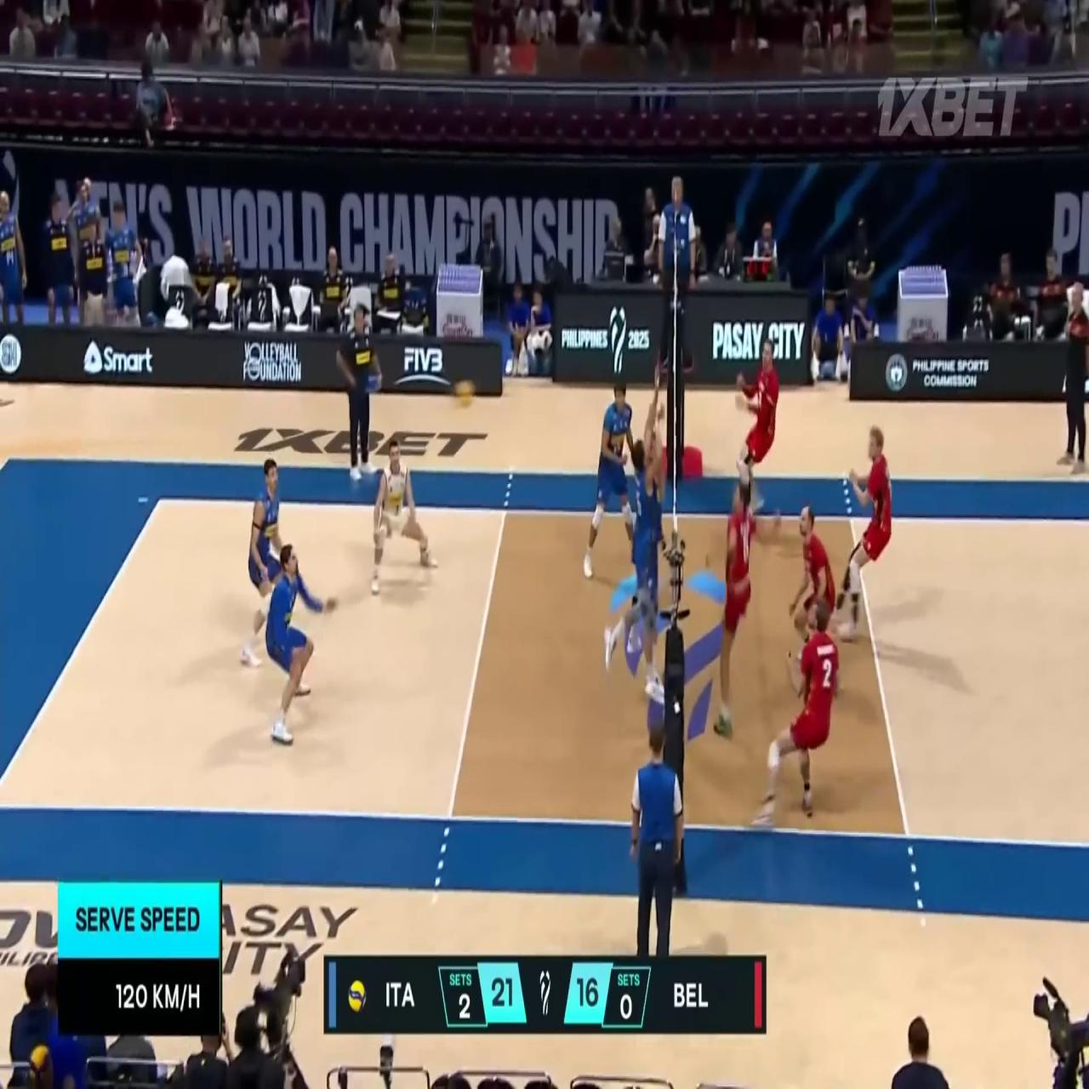ball: (455, 379, 475, 410)
